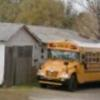buses: (37, 40, 100, 90)
